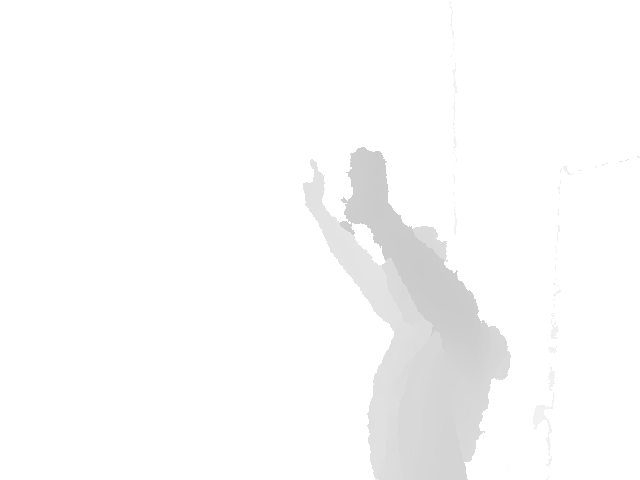hand: (343, 146, 390, 226), (303, 158, 326, 203)
head: (383, 225, 448, 318)
person: (301, 145, 512, 480)
